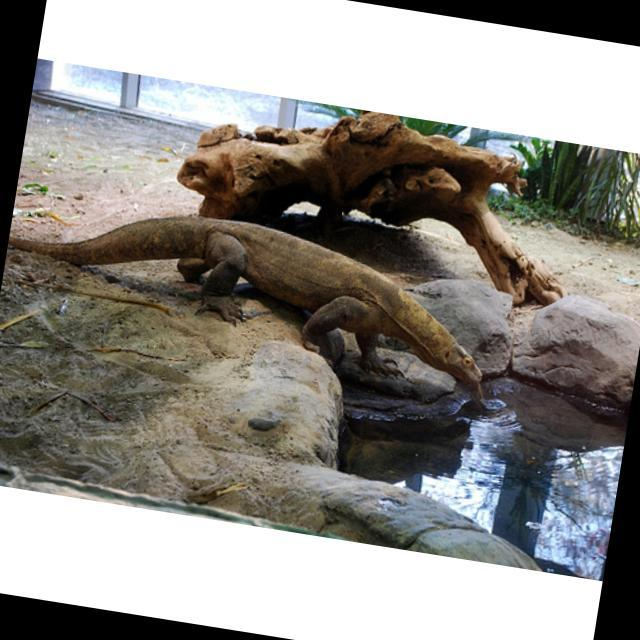KomodoDragon: (2, 185, 504, 390)
